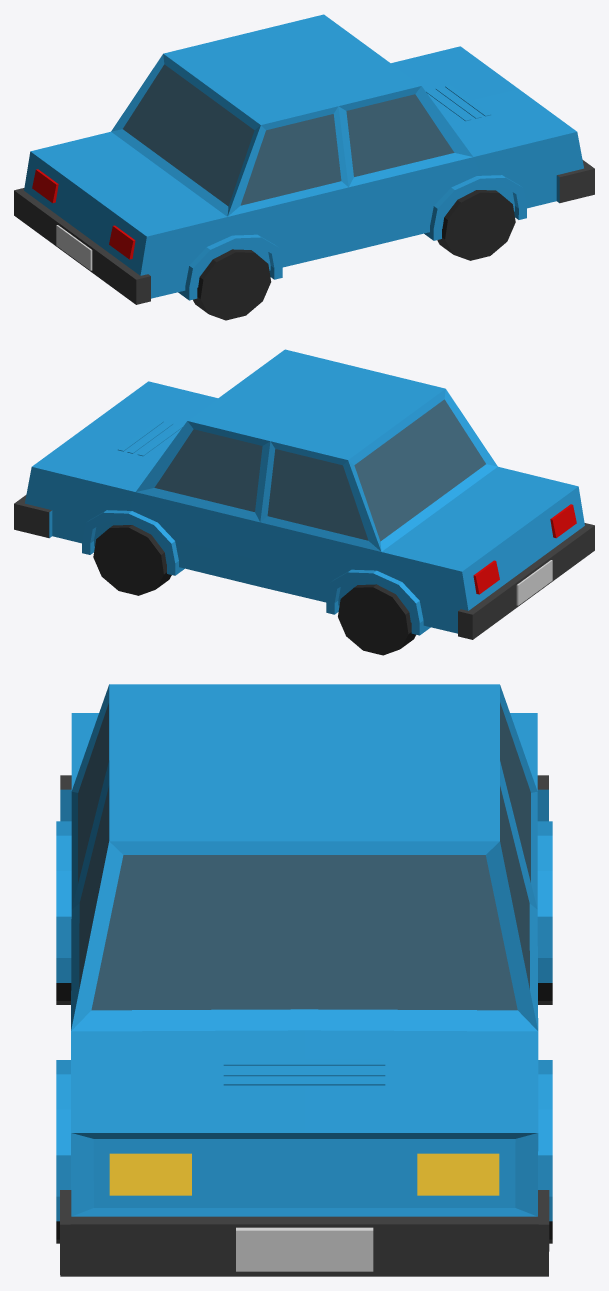
The model's file is Car2.fbx.
3 views of the same model, one above another, from view 1: azimuth 30°, elevation 25°; view 2: azimuth 150°, elevation 25°; view 3: azimuth 270°, elevation 25° (orthographic). The views are drawn at different scales.
Visible parts, largest first — view 1: Cube, Cylinder; view 2: Cube, Cylinder; view 3: Cube, Cylinder.
Boxes of the visible parts, x1,y1,x2,y2 form: Cube: [14, 14, 594, 304]; Cylinder: [178, 175, 526, 320]; Cube: [14, 349, 594, 639]; Cylinder: [82, 510, 430, 655]; Cube: [60, 684, 549, 1276]; Cylinder: [56, 821, 552, 1243].
Size of the model in its own units: 573 by 206 by 266.
